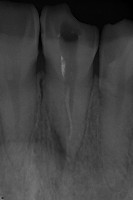Furcation Involvement: (52, 130, 66, 169)
